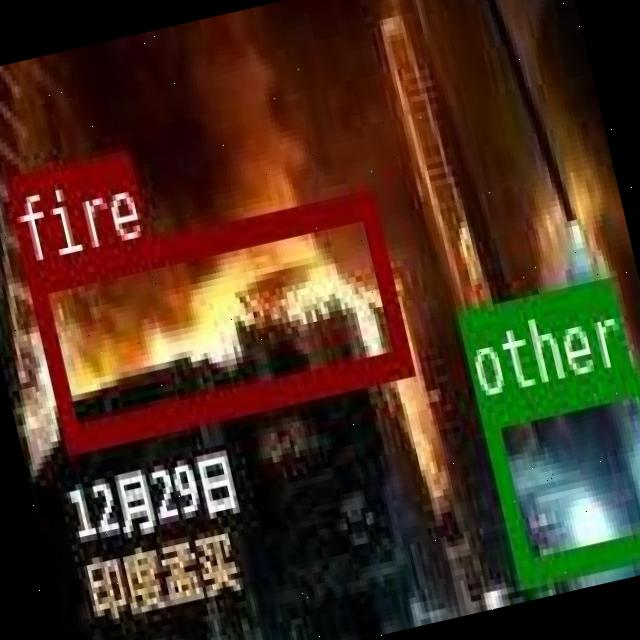fire: (23, 189, 410, 447)
